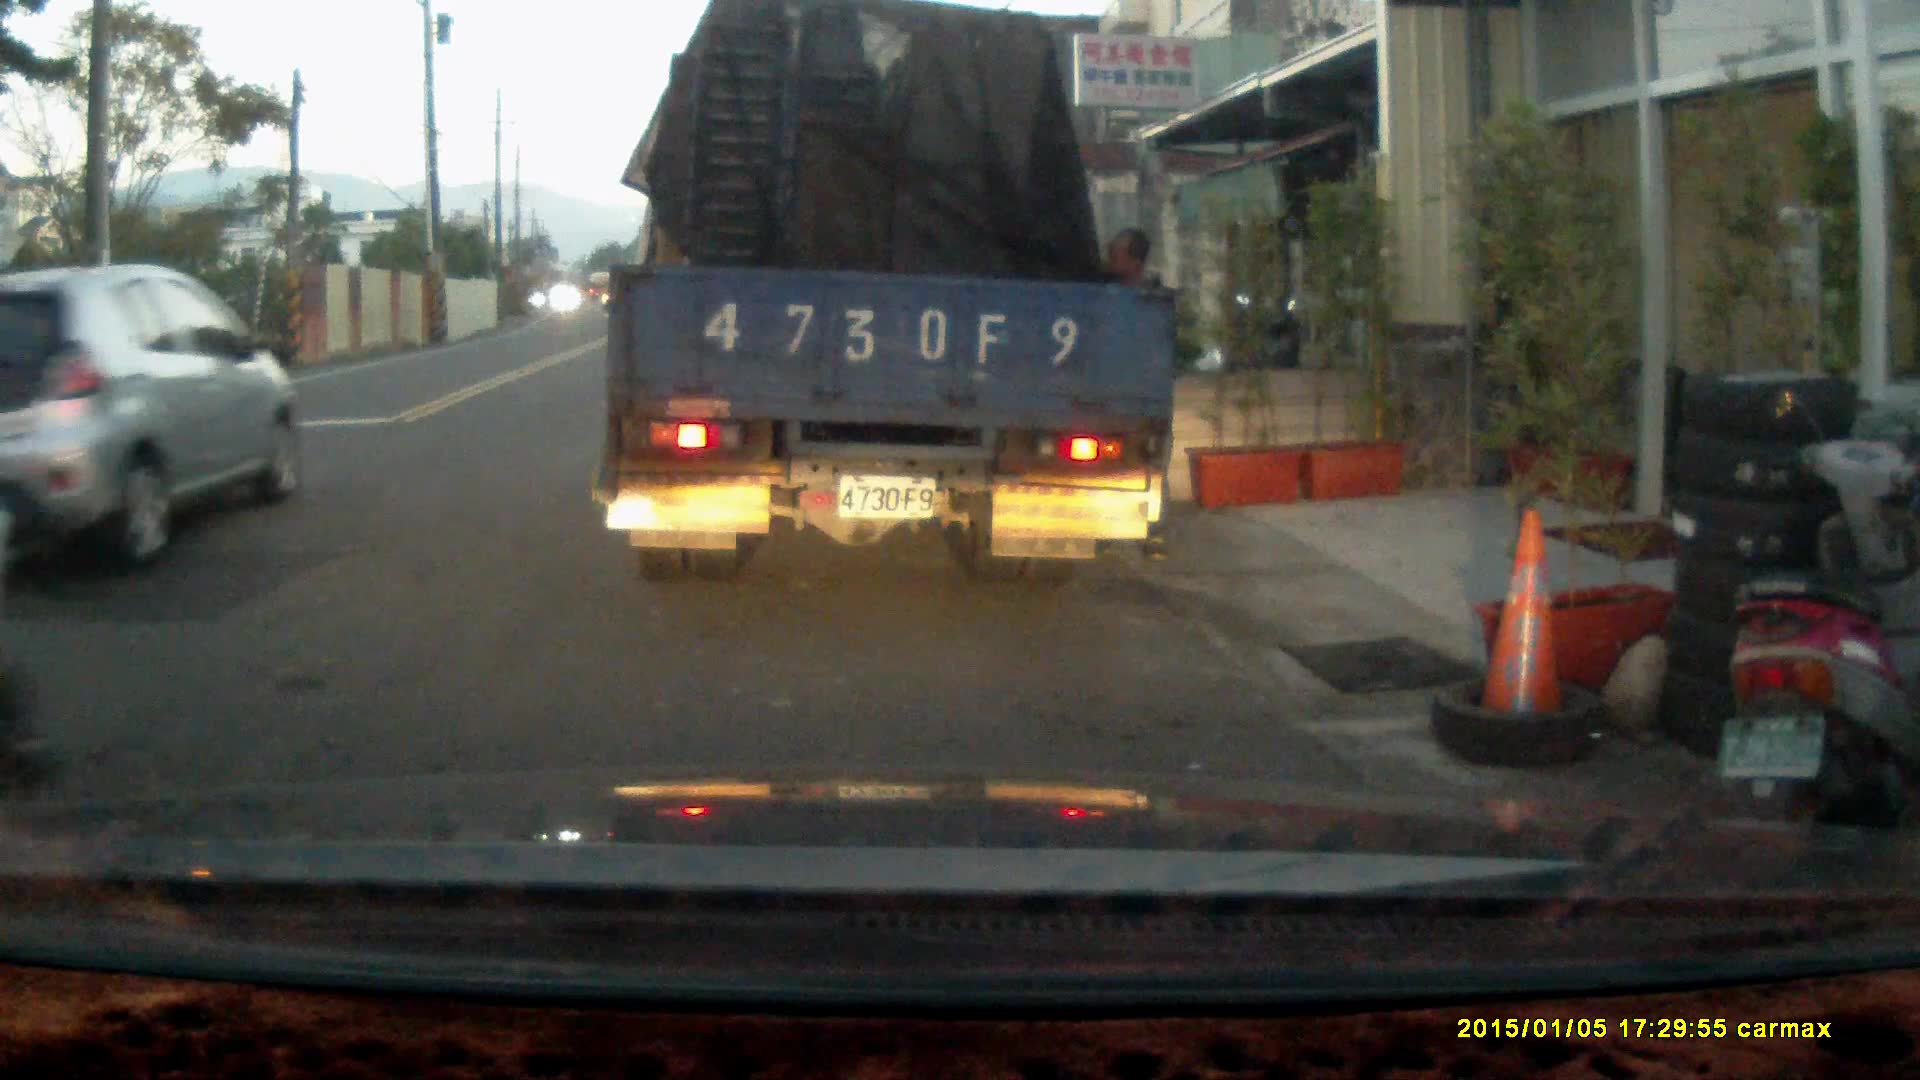pedestrian: (1083, 226, 1184, 567)
vehicle: (601, 23, 1185, 572), (3, 261, 301, 549)
